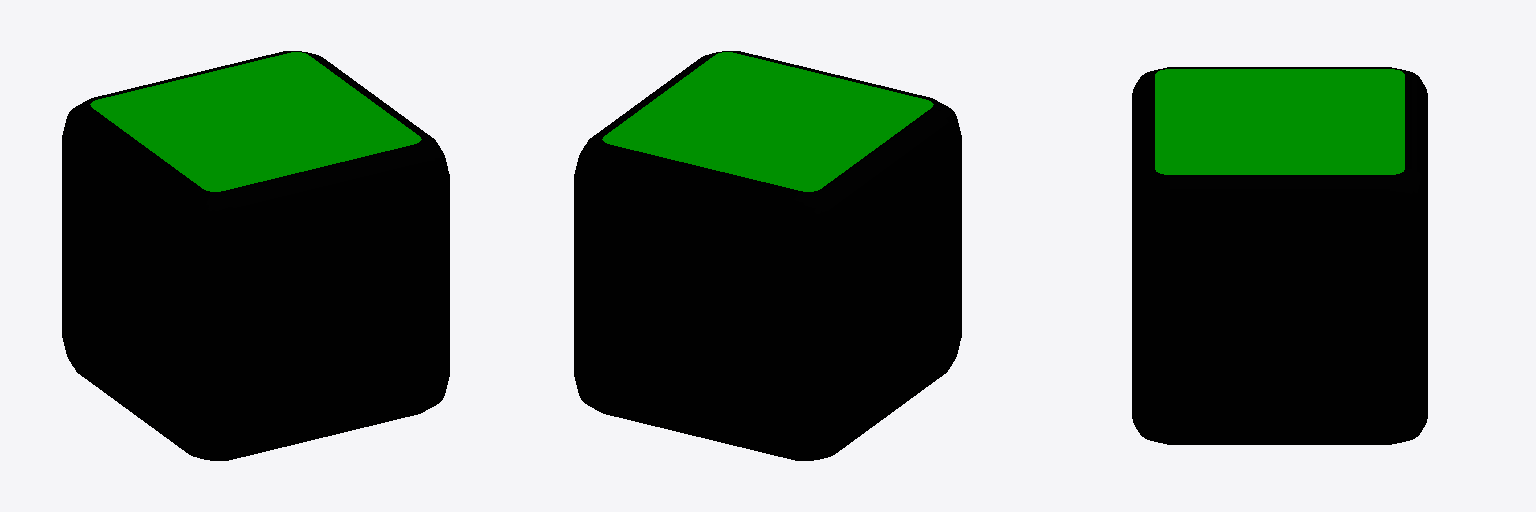
Rendered from center_g.obj.
The picture shows the model from 3 angles: view 1: azimuth 30°, elevation 25°; view 2: azimuth 150°, elevation 25°; view 3: azimuth 270°, elevation 25°; orthographic projection.
Visible parts, largest first — view 1: Cube; view 2: Cube; view 3: Cube.
Part boxes in pixels (bbox=[...]): Cube: bbox=[62, 51, 449, 460]; Cube: bbox=[574, 51, 961, 460]; Cube: bbox=[1132, 67, 1427, 444].
Size of the model in its own units: 2 by 2 by 2.